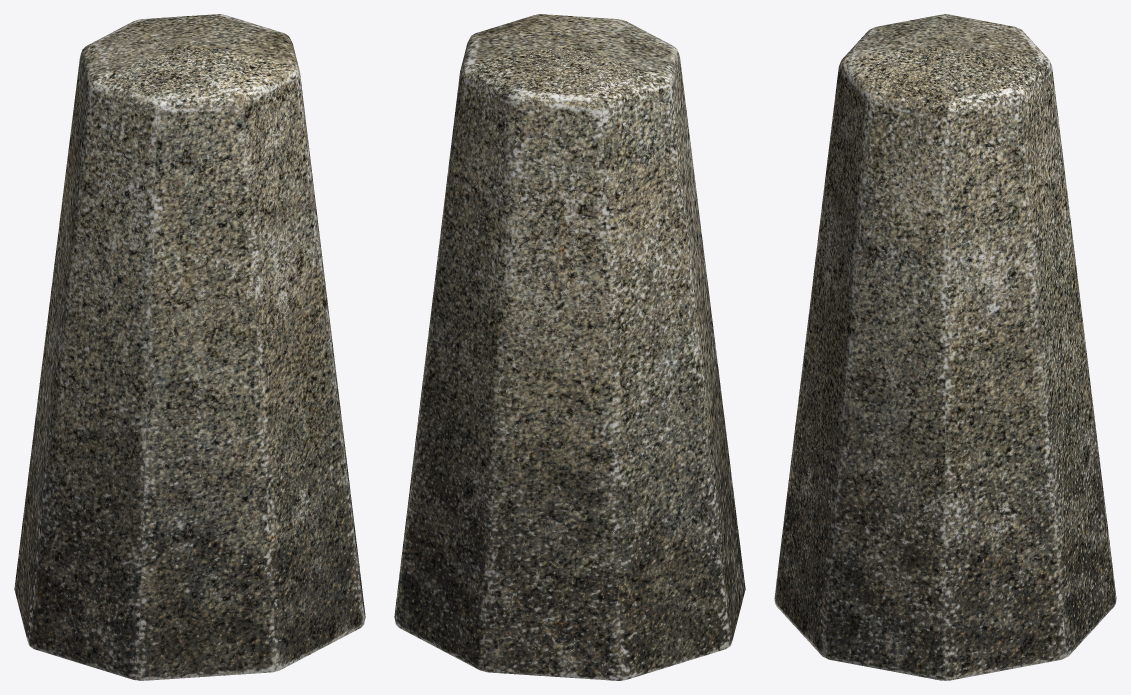
The model's file is SM_Cornerstone01a.fbx.
The picture shows the model from 3 angles, left to right: view 1: azimuth 30°, elevation 25°; view 2: azimuth 150°, elevation 25°; view 3: azimuth 270°, elevation 25°; orthographic projection.
Parts seen in each view (by area): view 1: SM_Cornerstone01a; view 2: SM_Cornerstone01a; view 3: SM_Cornerstone01a.
Part boxes in pixels (box(x1,y1,x2,y2)): SM_Cornerstone01a: box(14, 14, 365, 680); SM_Cornerstone01a: box(394, 14, 745, 680); SM_Cornerstone01a: box(774, 14, 1116, 680).
Size of the model in its own units: 56.48 by 52.87 by 95.3.
1 material, 1 textured.
